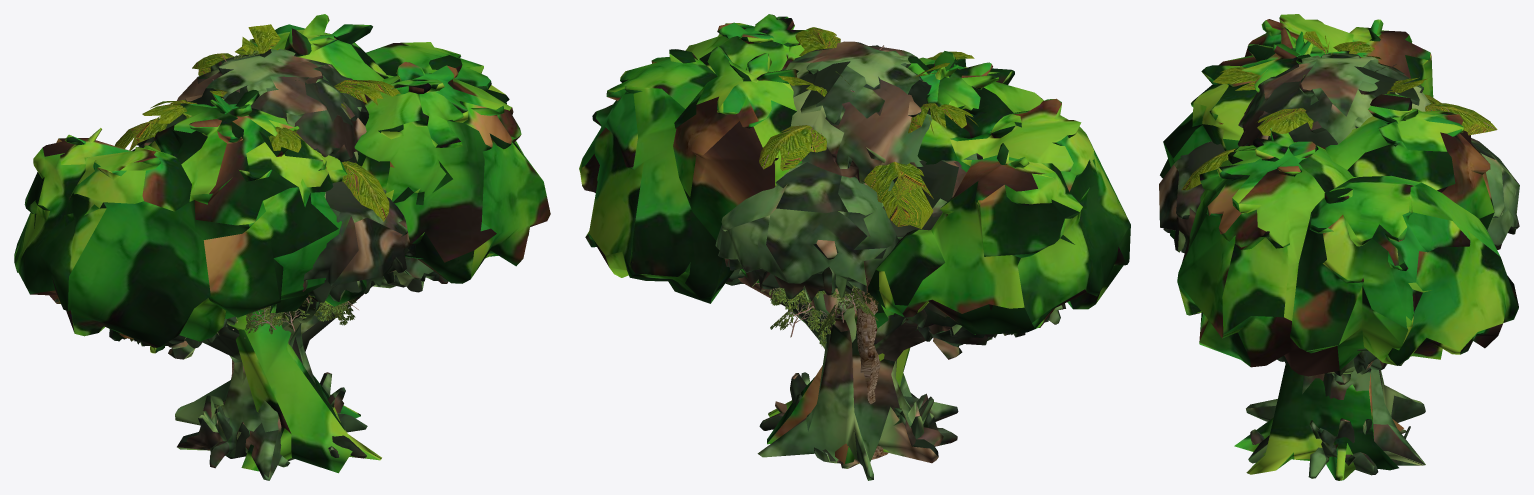
The model's file is trees.glb.
3 views of the same model, side by side, from view 1: azimuth 30°, elevation 25°; view 2: azimuth 150°, elevation 25°; view 3: azimuth 270°, elevation 25° (orthographic). The views are drawn at different scales.
Visible parts, largest first — view 1: xtree_02, xtree_08, coconut_palm, lptree_2, lptree_1; view 2: xtree_02, xtree_08, coconut_palm, lptree_1; view 3: xtree_02, xtree_08, coconut_palm.
Boxes of the visible parts, x1=… form: xtree_02: x1=14, y1=14, x2=550, y2=473; xtree_08: x1=55, y1=49, x2=448, y2=480; coconut_palm: x1=114, y1=24, x2=400, y2=378; lptree_2: x1=212, y1=79, x2=358, y2=338; lptree_1: x1=222, y1=50, x2=356, y2=325; xtree_02: x1=579, y1=14, x2=1130, y2=463; xtree_08: x1=715, y1=41, x2=1065, y2=480; coconut_palm: x1=759, y1=27, x2=978, y2=459; lptree_1: x1=756, y1=45, x2=883, y2=346; xtree_02: x1=1160, y1=14, x2=1518, y2=480; xtree_08: x1=1159, y1=53, x2=1519, y2=478; coconut_palm: x1=1181, y1=31, x2=1497, y2=190.
Size of the model in its own units: 1.34 by 1 by 0.8689.
Materials: 5 (5 with a texture image).
